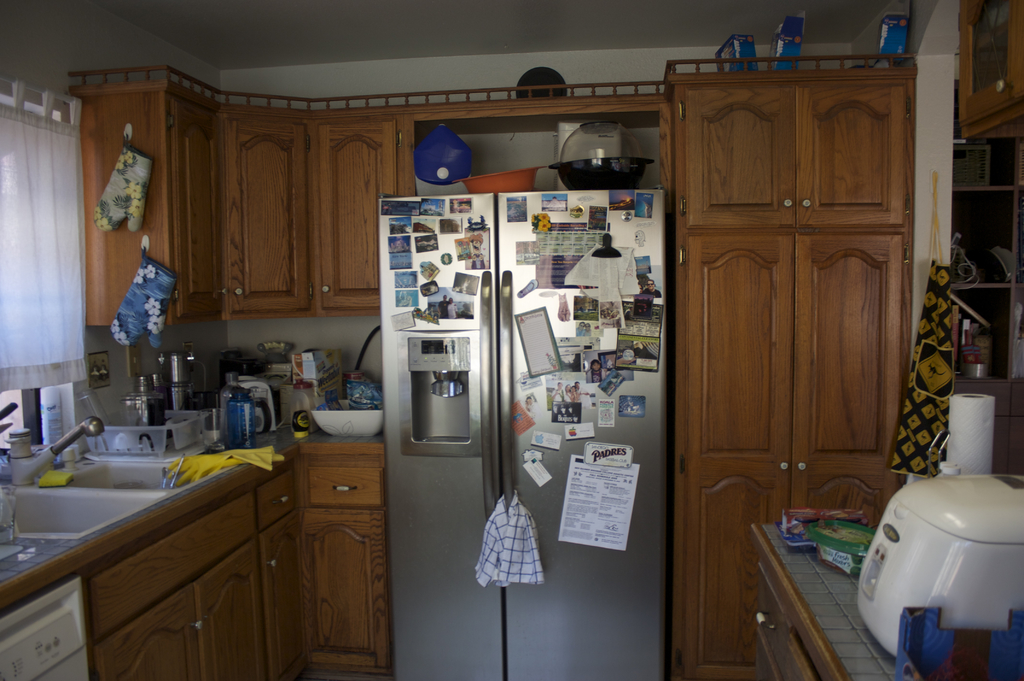cabinet door: (696, 238, 790, 677), (799, 236, 886, 514), (689, 86, 797, 225), (802, 93, 902, 225), (318, 514, 397, 673), (225, 129, 290, 302), (318, 133, 386, 292), (172, 108, 220, 309), (199, 564, 258, 681), (265, 528, 310, 679), (125, 614, 199, 681), (300, 457, 370, 506), (265, 477, 301, 514)
handle: (494, 262, 525, 507), (470, 266, 498, 518), (187, 610, 202, 637), (796, 192, 812, 216), (334, 482, 361, 496), (778, 452, 794, 475), (782, 192, 795, 218), (267, 550, 281, 571), (318, 281, 334, 298), (278, 489, 290, 510), (797, 456, 810, 474), (235, 281, 246, 301)
refrigerator door: (504, 206, 665, 681), (388, 200, 505, 681)
